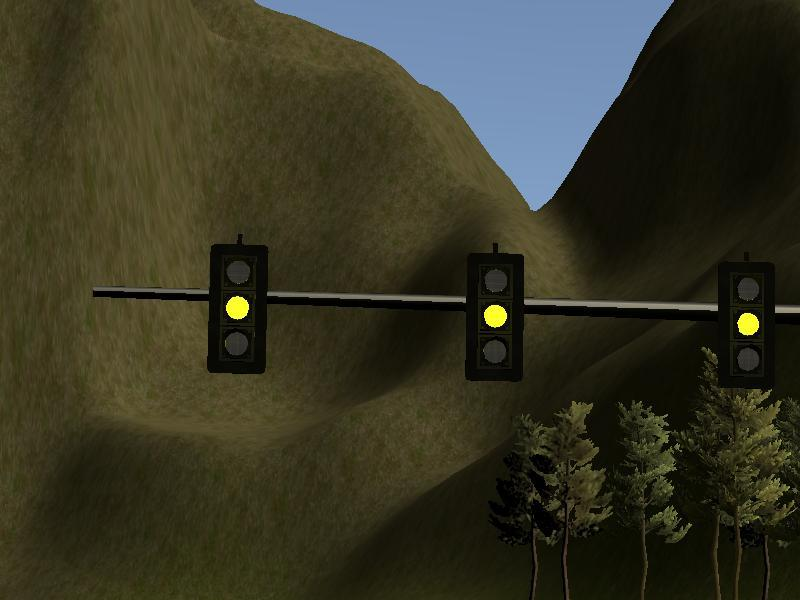Yellow: (208, 244, 268, 374), (718, 260, 775, 390), (467, 253, 524, 380)
